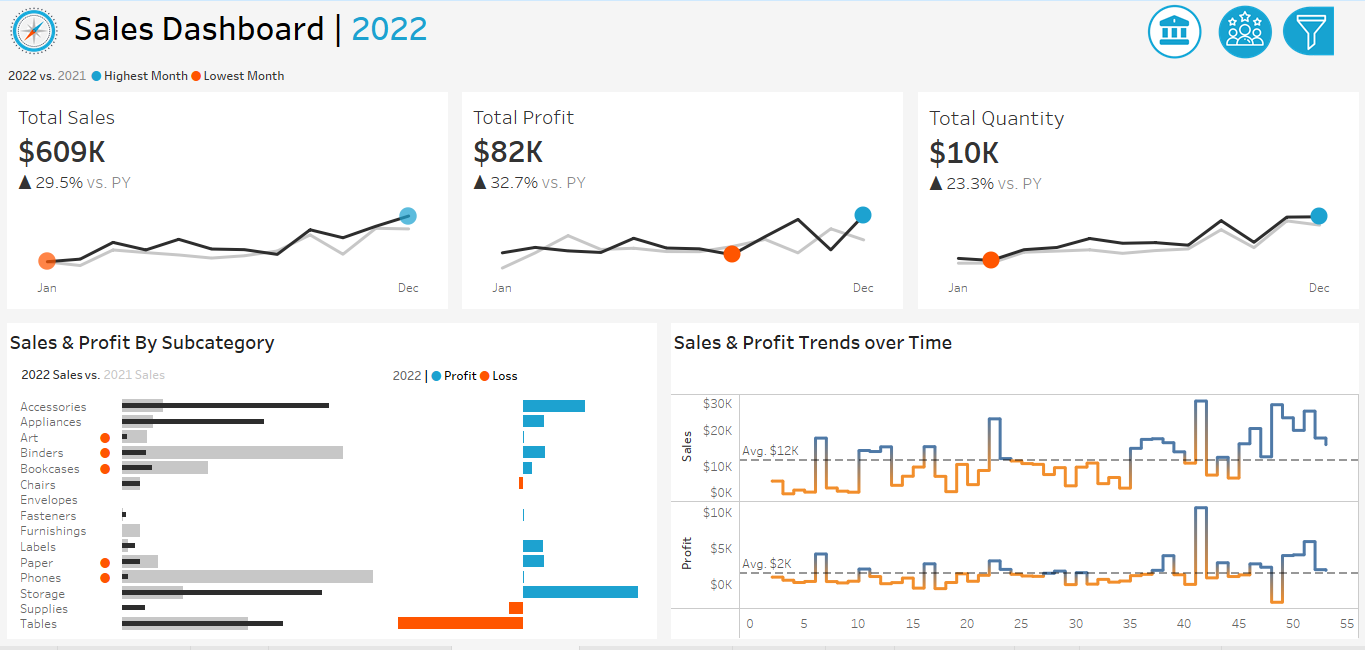

The page's visual inventory and layout, read from the dashboard file:
{"tool":"tableau","page":{"name":"Sales Dashboard","canvas":[1000,1000],"units":"permille","ordinal":1},"visuals":[{"type":"image","param":"E:/Neoron/Programming_Practice/tableau/Project/Sales dashboard/Sales Dashboard M","box":[0,0,58,98]},{"type":"text","box":[58,0,593.9,86.4]},{"type":"text","box":[803.9,93,195.2,46.1]},{"type":"worksheet","title":"Legend KPI","mark":"Automatic","box":[0,98,1000,53.2]},{"type":"parameter","param":"[Parameters].[Parameter 1]","box":[803.9,139.1,195.2,70.5]},{"type":"worksheet","title":"KPI Sales","mark":"Automatic","rows":["Calculation_454300661926895619"],"cols":["Order Date"],"box":[0,151.2,333.3,372.1]},{"type":"worksheet","title":"KPI Profit","mark":"Automatic","rows":["Calculation_454300661945810960"],"cols":["Order Date"],"box":[333.3,151.2,333.3,372.1]},{"type":"worksheet","title":"KPI Quantity","mark":"Automatic","rows":["Calculation_454300661981442070"],"cols":["Order Date"],"box":[666.7,151.2,333.3,372.1]},{"type":"blank","box":[803.9,209.6,195.2,51.5]},{"type":"text","box":[803.9,261,195.2,39.3]},{"type":"dashboard-object","box":[927.3,275.8,20.8,39.9]},{"type":"filter","title":"KPI Sales","param":"[federated.1p7yrtj1la22ms19r9bfk1qrfo7u].[none:Category:nk]","box":[803.9,300.3,195.2,70.5]},{"type":"filter","title":"KPI Sales","param":"[federated.1p7yrtj1la22ms19r9bfk1qrfo7u].[none:Sub-Category:nk]","box":[803.9,370.8,195.2,70.5]},{"type":"blank","box":[803.9,441.3,195.2,43.4]},{"type":"text","box":[803.9,484.6,195.2,39.3]},{"type":"filter","title":"KPI Sales","param":"[federated.1p7yrtj1la22ms19r9bfk1qrfo7u].[none:State:nk]","box":[803.9,523.9,195.2,70.5]},{"type":"text","box":[6.1,534.9,562.8,59.8]},{"type":"text","box":[581,534.9,413,61.5]},{"type":"filter","title":"KPI Sales","param":"[federated.1p7yrtj1la22ms19r9bfk1qrfo7u].[none:City:nk]","box":[803.9,594.4,195.2,70.5]},{"type":"worksheet","title":"Legend SubCategory","mark":"Automatic","box":[6.1,594.7,331.6,53.2]},{"type":"text","box":[337.7,594.7,231.2,53.2]},{"type":"worksheet","title":"Legend Sales and Profit trend","mark":"Automatic","box":[581,596.4,413,56.5]},{"type":"worksheet","title":"Sales and Profit subcategory ","mark":"Bar","rows":["Sub-Category","Calculation_526639731734749184"],"cols":["CY Sales (copy)_454300661922516993","Calculation_454300661922189312","Calculation_454300661942337547"],"box":[6.1,647.9,562.8,340.5]},{"type":"worksheet","title":"Trend over time ","mark":"Line","rows":["Calculation_454300661922189312","Calculation_454300661942337547"],"cols":["Order Date"],"box":[581,652.8,413,335.5]},{"type":"filter","title":"KPI Sales","param":"[federated.1p7yrtj1la22ms19r9bfk1qrfo7u].[none:Region:nk]","box":[803.9,664.8,195.2,70.5]}]}

Visuals, with their boxes on the dashboard's canvas, which has no fixed pixel size, in thousandths of its width and height (x1, y1, x2, y2). These are canvas units, not pixel positions in the 1365x650 screenshot, which may show the page scaled, cropped or inside an application window:
image: box=[0, 0, 58, 98]
text: box=[58, 0, 652, 86]
text: box=[804, 93, 999, 139]
"Legend KPI" worksheet: box=[0, 98, 1000, 151]
parameter: box=[804, 139, 999, 210]
"KPI Sales" worksheet: box=[0, 151, 333, 523]
"KPI Profit" worksheet: box=[333, 151, 667, 523]
"KPI Quantity" worksheet: box=[667, 151, 1000, 523]
blank: box=[804, 210, 999, 261]
text: box=[804, 261, 999, 300]
dashboard-object: box=[927, 276, 948, 316]
"KPI Sales" filter: box=[804, 300, 999, 371]
"KPI Sales" filter: box=[804, 371, 999, 441]
blank: box=[804, 441, 999, 485]
text: box=[804, 485, 999, 524]
"KPI Sales" filter: box=[804, 524, 999, 594]
text: box=[6, 535, 569, 595]
text: box=[581, 535, 994, 596]
"KPI Sales" filter: box=[804, 594, 999, 665]
"Legend SubCategory" worksheet: box=[6, 595, 338, 648]
text: box=[338, 595, 569, 648]
"Legend Sales and Profit trend" worksheet: box=[581, 596, 994, 653]
"Sales and Profit subcategory " worksheet (Bar marks): box=[6, 648, 569, 988]
"Trend over time " worksheet (Line marks): box=[581, 653, 994, 988]
"KPI Sales" filter: box=[804, 665, 999, 735]
